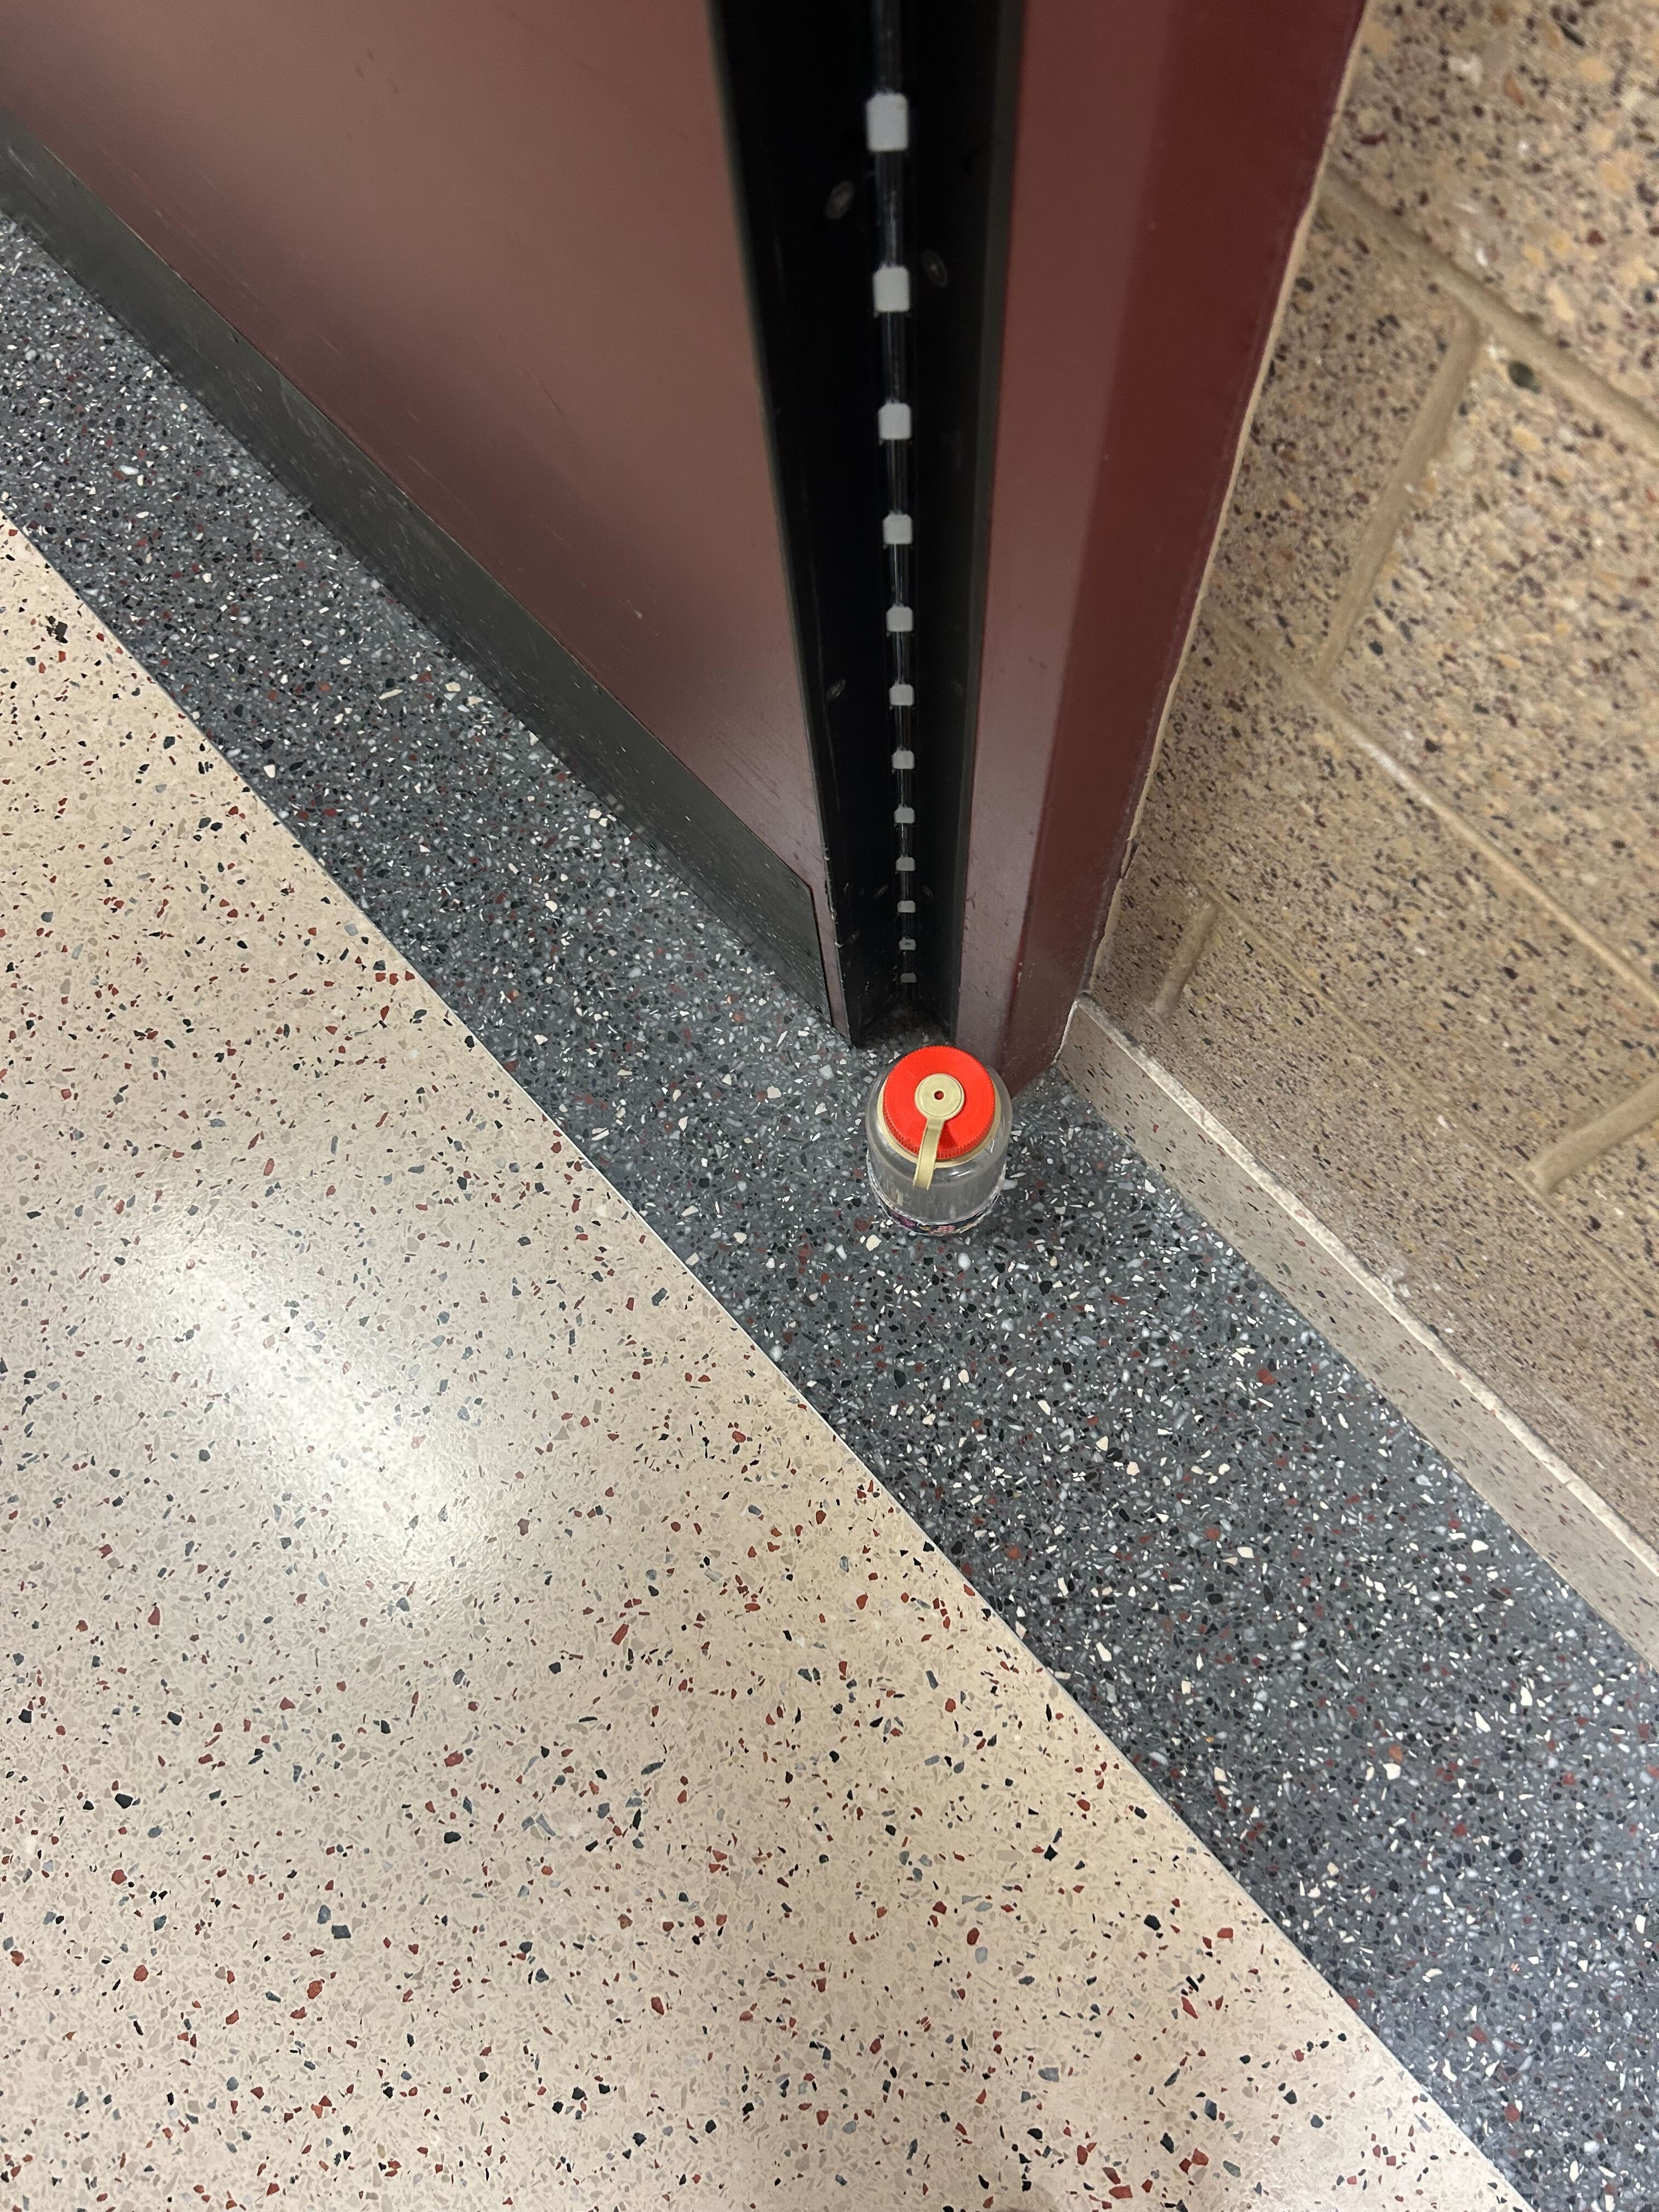bottle: (863, 1036, 1016, 1235)
